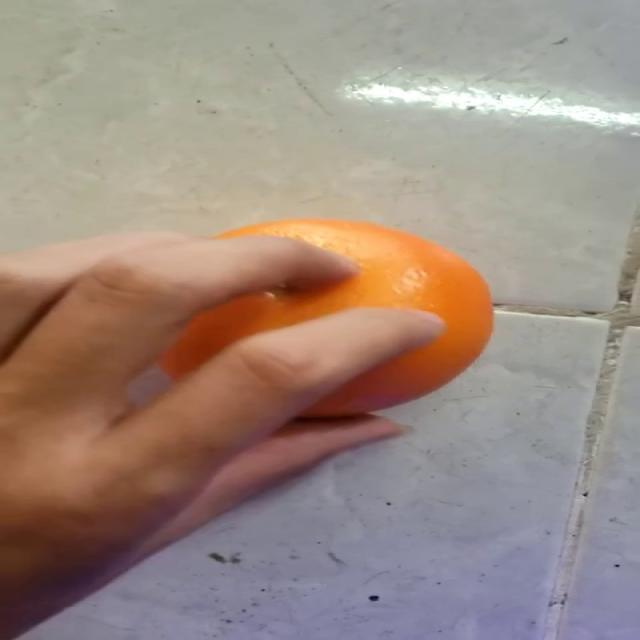Orange: (156, 215, 494, 419)
